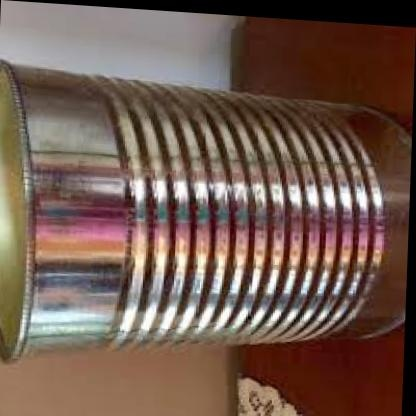trash: (0, 62, 409, 357)
